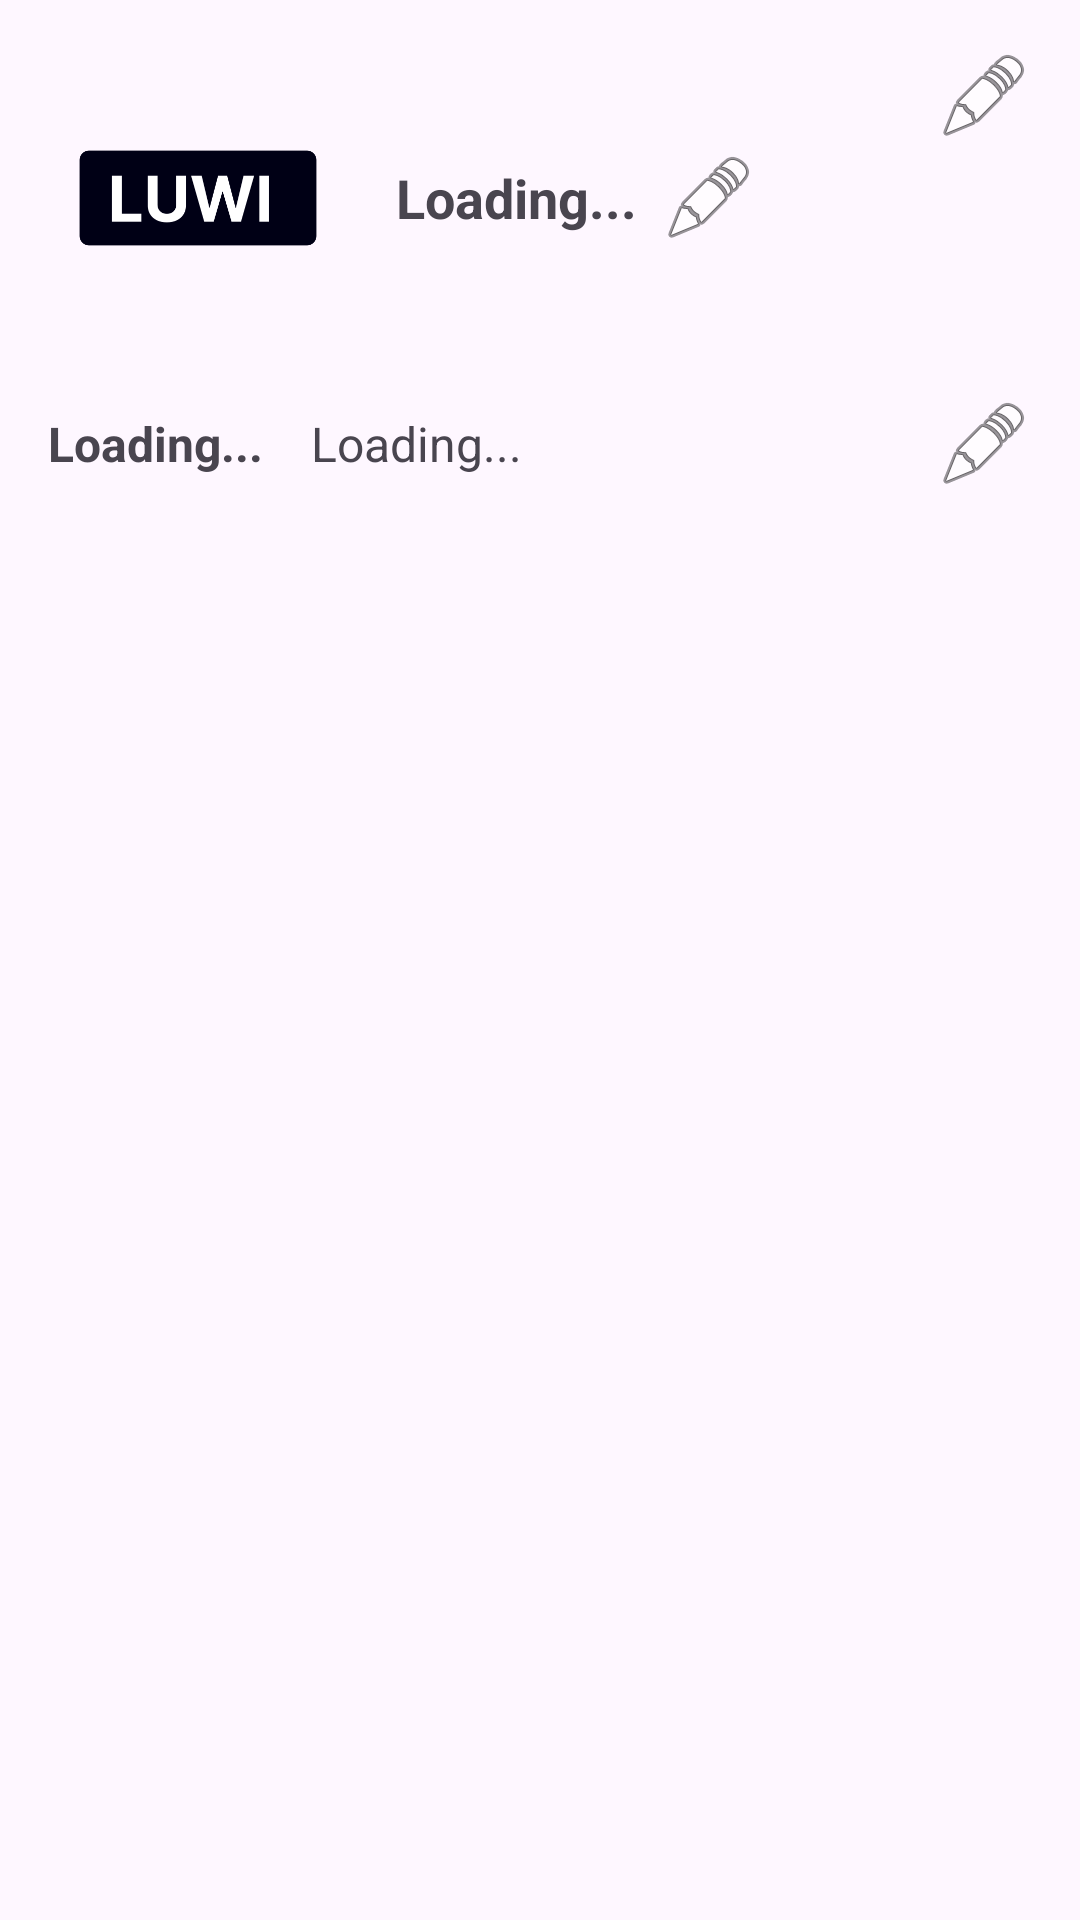

Named icons in this screenshot (1080*1920) and their bounding boxes, (x1, y1, x2, y2):
Edit email: (943, 403, 1024, 484)
Edit image: (943, 55, 1024, 136)
Edit username: (668, 157, 749, 238)
